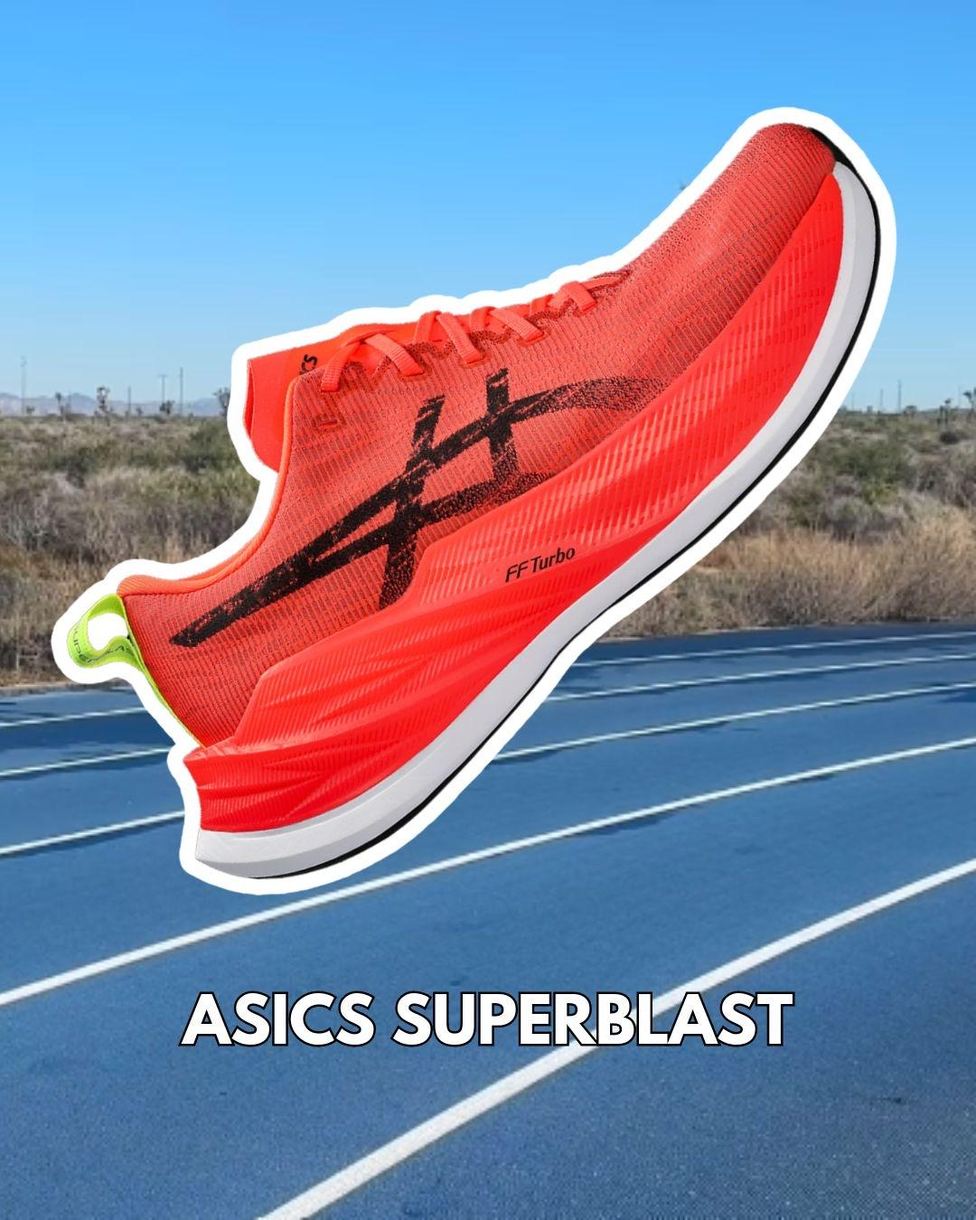asics logo: (161, 347, 712, 676)
